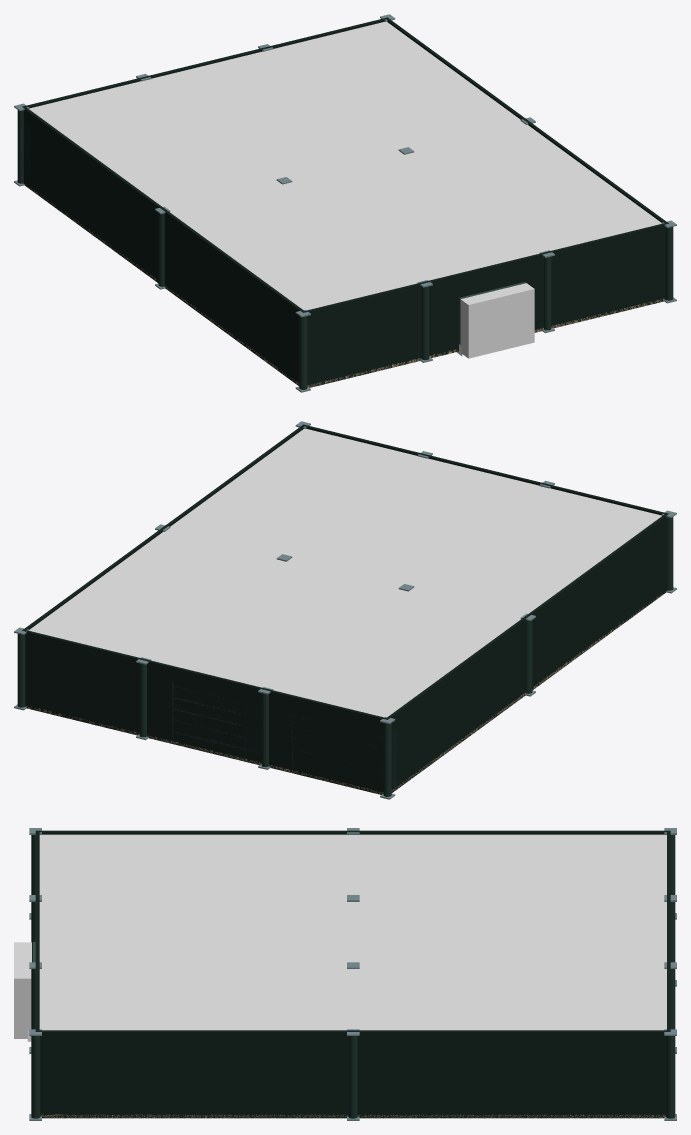
Rendered from LabRoom.fbx.
3 views of the same model, one above another, from view 1: azimuth 30°, elevation 25°; view 2: azimuth 150°, elevation 25°; view 3: azimuth 270°, elevation 25° (orthographic). The views are drawn at different scales.
Visible parts, largest first — view 1: Floor.001, Room, CTRL_Hole, Column, Baseboard, Column_box_top; view 2: Floor.001, Room, Column, Baseboard, Column_box_top; view 3: Floor.001, Room, Column, CTRL_Hole, Baseboard, Column_box_top.
Part boxes in pixels (bbox=[...]): Floor.001: bbox=[29, 21, 661, 310]; Room: bbox=[22, 17, 668, 387]; CTRL_Hole: bbox=[460, 283, 534, 358]; Column: bbox=[17, 110, 673, 389]; Baseboard: bbox=[23, 182, 664, 387]; Column_box_top: bbox=[14, 14, 676, 317]; Floor.001: bbox=[29, 428, 661, 717]; Room: bbox=[22, 424, 668, 794]; Column: bbox=[17, 517, 673, 796]; Baseboard: bbox=[25, 592, 664, 794]; Column_box_top: bbox=[14, 421, 676, 724]; Floor.001: bbox=[39, 834, 666, 1030]; Room: bbox=[35, 830, 670, 1118]; Column: bbox=[31, 835, 675, 1118]; CTRL_Hole: bbox=[14, 942, 31, 1038]; Baseboard: bbox=[40, 1114, 665, 1118]; Column_box_top: bbox=[29, 828, 676, 1035].
Size of the model in its own units: 1540 by 310 by 2089.
